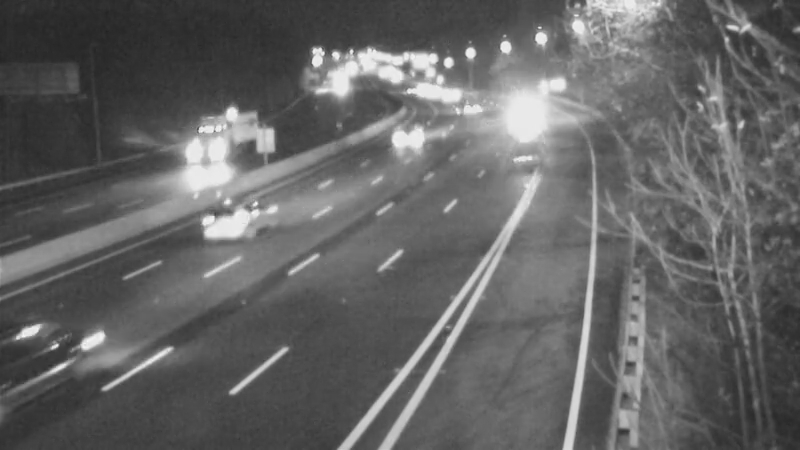vehicle: (1, 302, 107, 412), (200, 185, 280, 265), (422, 69, 472, 119), (444, 85, 494, 135), (500, 96, 550, 146), (381, 112, 431, 162), (187, 123, 237, 173)
